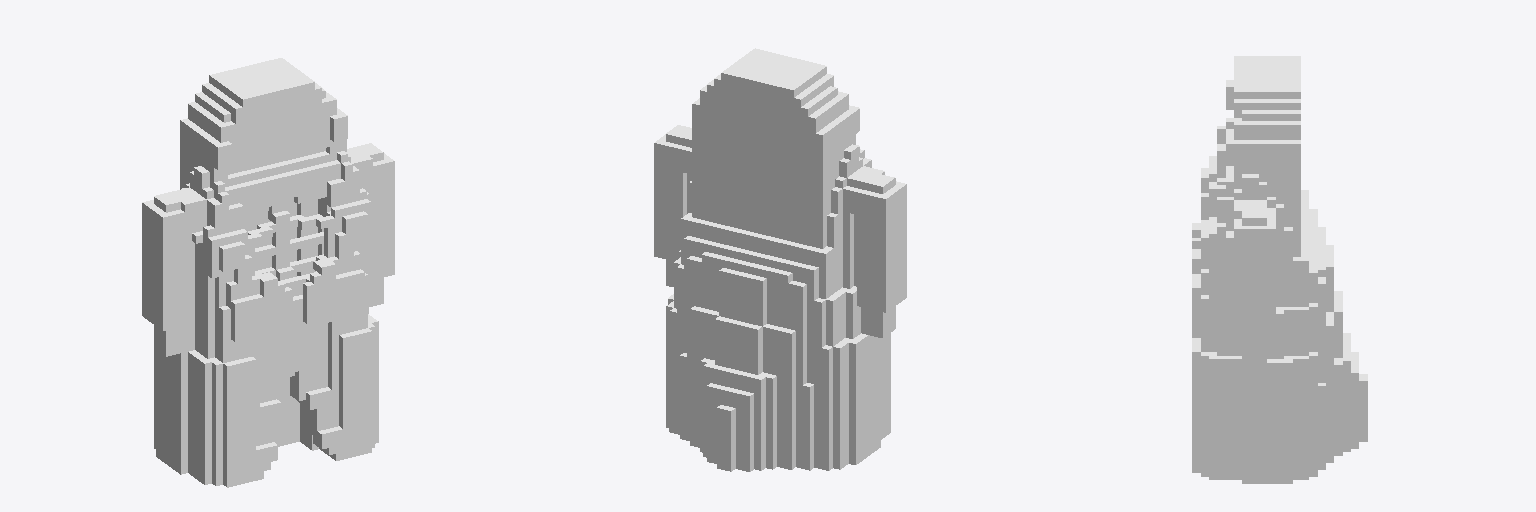
Rendered from necromancer.obj.
3 views of the same model, side by side, from view 1: azimuth 30°, elevation 25°; view 2: azimuth 150°, elevation 25°; view 3: azimuth 270°, elevation 25° (orthographic).
Visible parts, largest first — view 1: object 1; view 2: object 1; view 3: object 1.
Part boxes in pixels (x1,y1,x2,y2): object 1: (142,58,394,487); object 1: (654,48,906,471); object 1: (1192,56,1367,483).
Bounding box in the file's own units: 3.2 × 4.8 × 2.1.